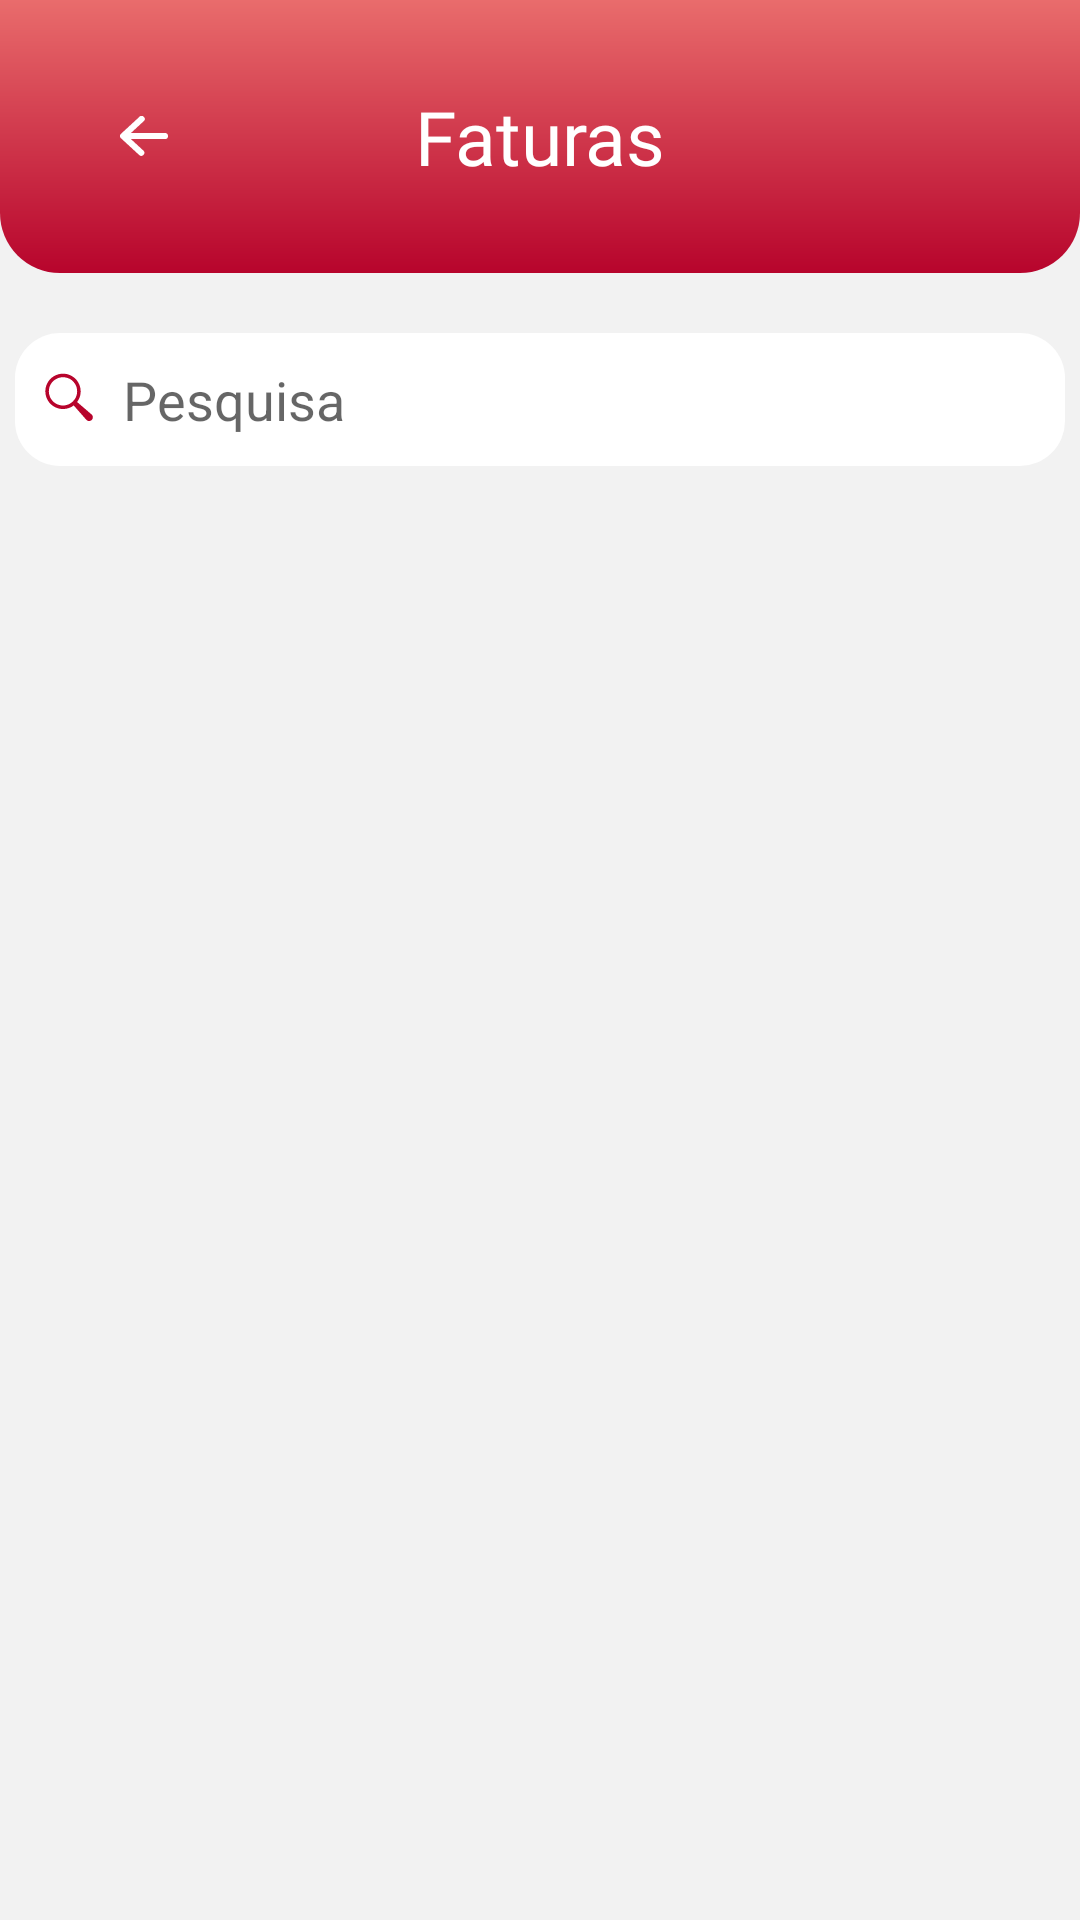

Named icons in this screenshot (1080 x 1920) and their centers, (x,y):
seta: (144,136)
